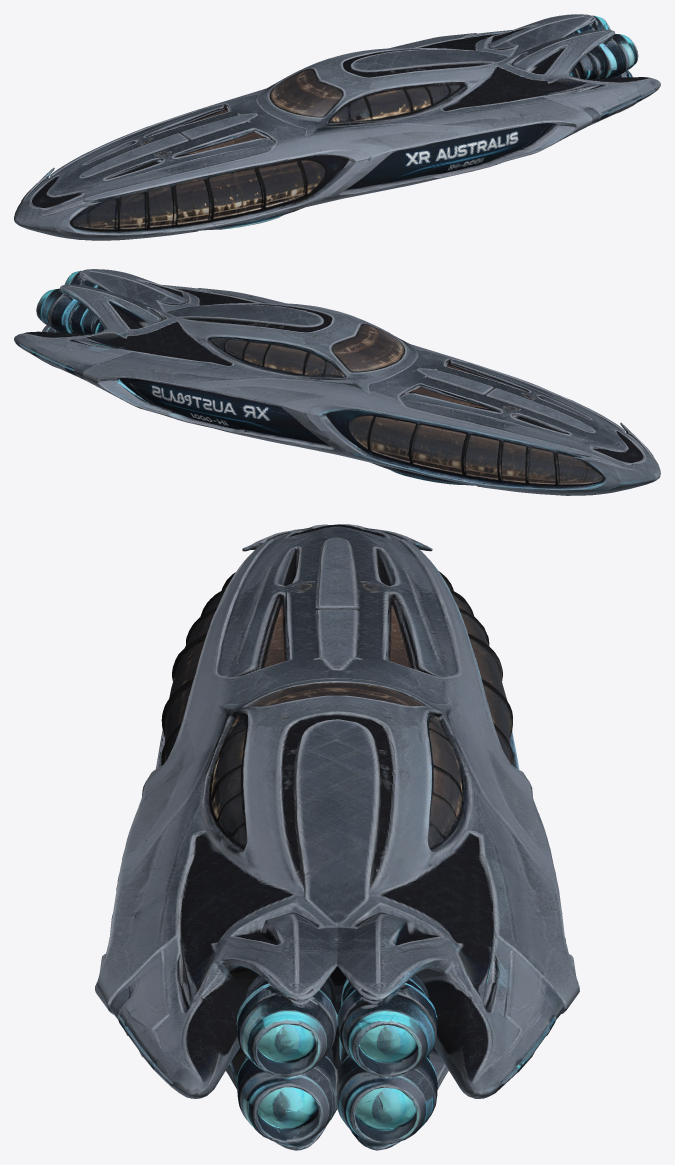
The model's file is xr-australis-hull.glb.
3 renders of one model, top to bottom at view 1: azimuth 30°, elevation 25°; view 2: azimuth 150°, elevation 25°; view 3: azimuth 270°, elevation 25°, orthographic. The views are drawn at different scales.
Visible parts, largest first — view 1: Mesh_0; view 2: Mesh_0; view 3: Mesh_0.
Part boxes in pixels (box(x1,y1,x2,y2)): Mesh_0: box(14, 14, 660, 240); Mesh_0: box(14, 269, 660, 495); Mesh_0: box(95, 524, 579, 1150).
Size of the model in its own units: 1.9 by 0.3347 by 0.6564.
1 material, 1 textured.
